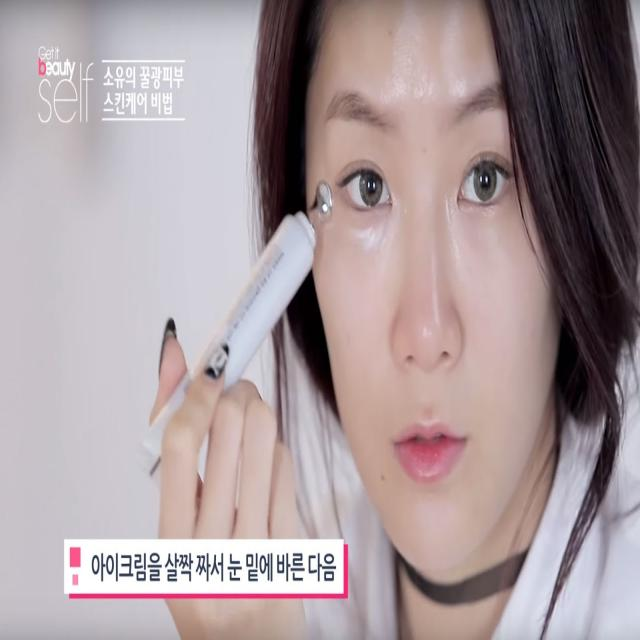Oily-Skin: (390, 3, 435, 115), (440, 0, 470, 102), (440, 190, 468, 284), (426, 237, 444, 335), (350, 218, 390, 260)
